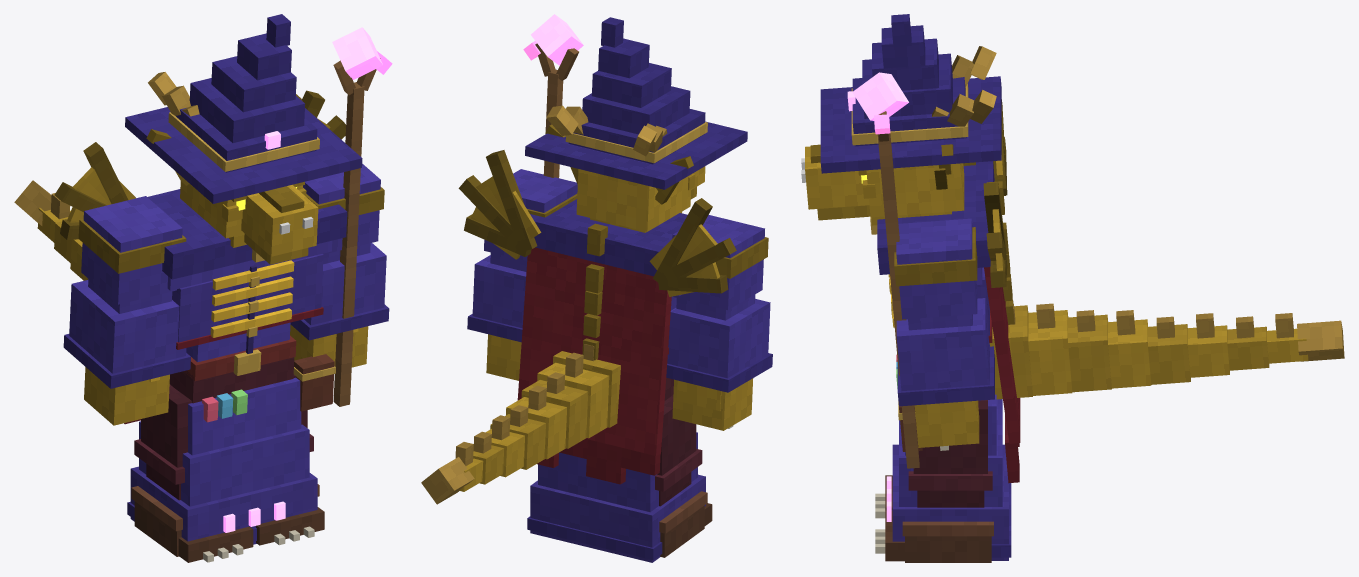
The model's file is dragonoid_mage_v2.glb.
3 views of the same model, side by side, from view 1: azimuth 30°, elevation 25°; view 2: azimuth 150°, elevation 25°; view 3: azimuth 270°, elevation 25° (orthographic). The views are drawn at different scales.
Visible parts, largest first — view 1: Torso, Head, ArmR, Root, ArmL, LegR, HandL, LegL; view 2: Torso, Head, ArmR, Root, ArmL, LegR, HandL; view 3: Torso, Head, ArmL, LegL, Root, HandL.
Part boxes in pixels (<box>): Torso: <box>14,90,347,424</box>; Head: <box>125,14,362,264</box>; ArmR: <box>63,196,190,425</box>; Root: <box>127,377,317,562</box>; ArmL: <box>290,164,389,367</box>; LegR: <box>131,384,253,562</box>; HandL: <box>332,27,392,406</box>; LegL: <box>256,374,324,545</box>; Torso: <box>421,150,736,504</box>; Head: <box>525,17,747,232</box>; ArmR: <box>666,215,772,430</box>; Root: <box>527,432,705,562</box>; ArmL: <box>467,169,577,380</box>; LegR: <box>655,395,712,557</box>; HandL: <box>523,14,583,177</box>; Torso: <box>870,99,1344,483</box>; Head: <box>801,14,1001,225</box>; ArmL: <box>894,218,994,450</box>; LegL: <box>885,400,993,562</box>; Root: <box>875,394,1011,560</box>; HandL: <box>852,72,919,468</box>.
Size of the model in its own units: 1.38 by 2.35 by 2.2.
Materials: 46 (46 with a texture image).
